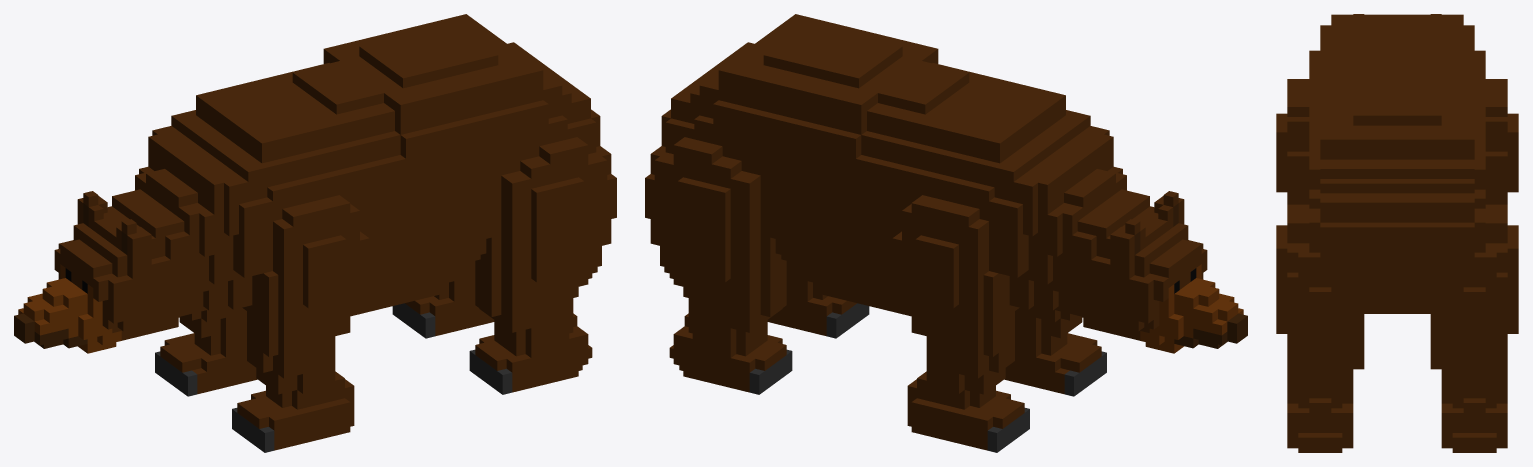
Rendered from bear.fbx.
The picture shows the model from 3 angles, left to right: view 1: azimuth 30°, elevation 25°; view 2: azimuth 150°, elevation 25°; view 3: azimuth 270°, elevation 25°; orthographic projection.
Visible parts, largest first — view 1: bear; view 2: bear; view 3: bear.
Boxes of the visible parts, <box> form: bear: <box>14,14,616,452</box>; bear: <box>645,14,1247,452</box>; bear: <box>1276,14,1518,452</box>.
Bounding box in the file's own units: 58 × 31 × 22.
